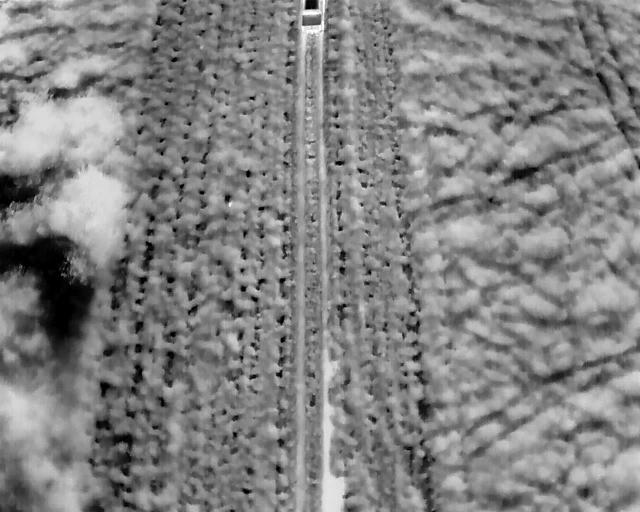car: (299, 0, 325, 33)
